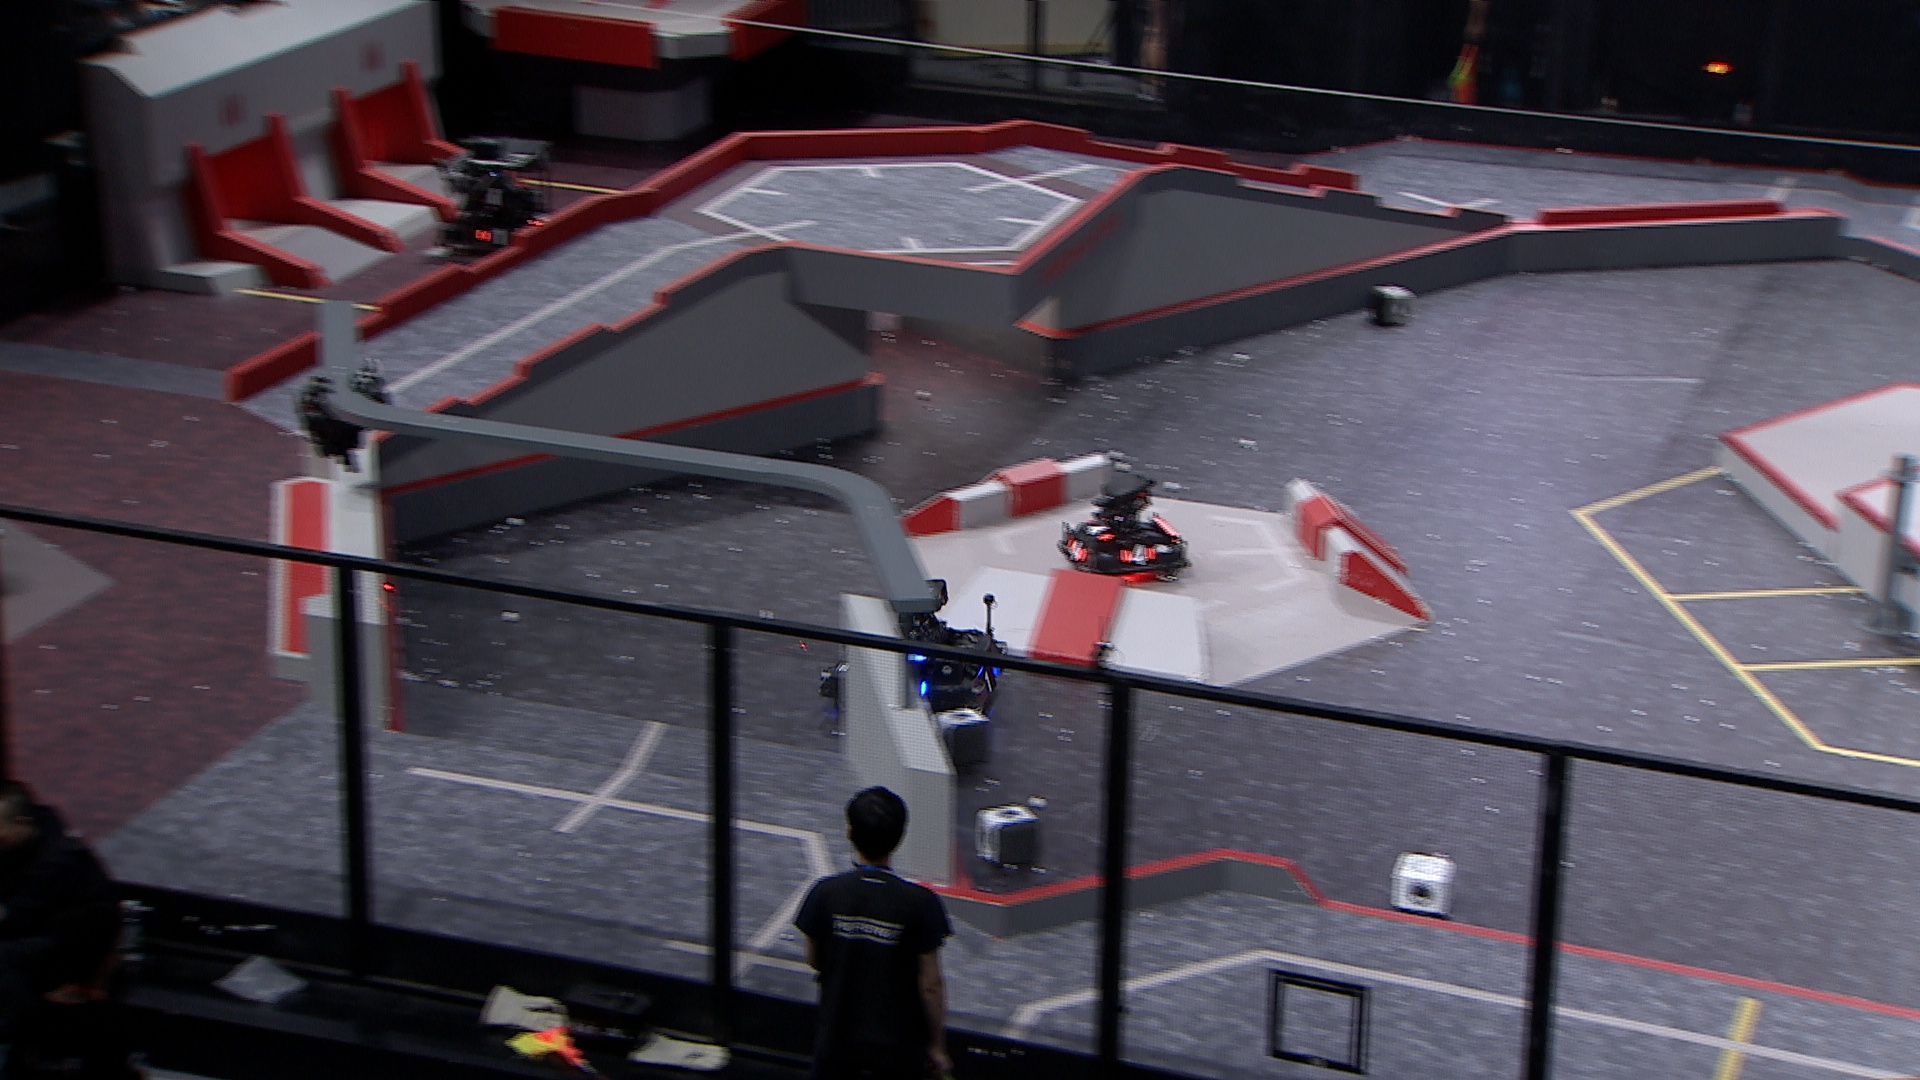armor: (468, 225, 517, 253), (1117, 543, 1156, 570), (1081, 522, 1112, 546), (1062, 537, 1088, 562), (982, 665, 1004, 694)
car: (820, 579, 1015, 717), (419, 136, 566, 276), (1054, 469, 1193, 585)
watcher: (294, 357, 392, 471)
